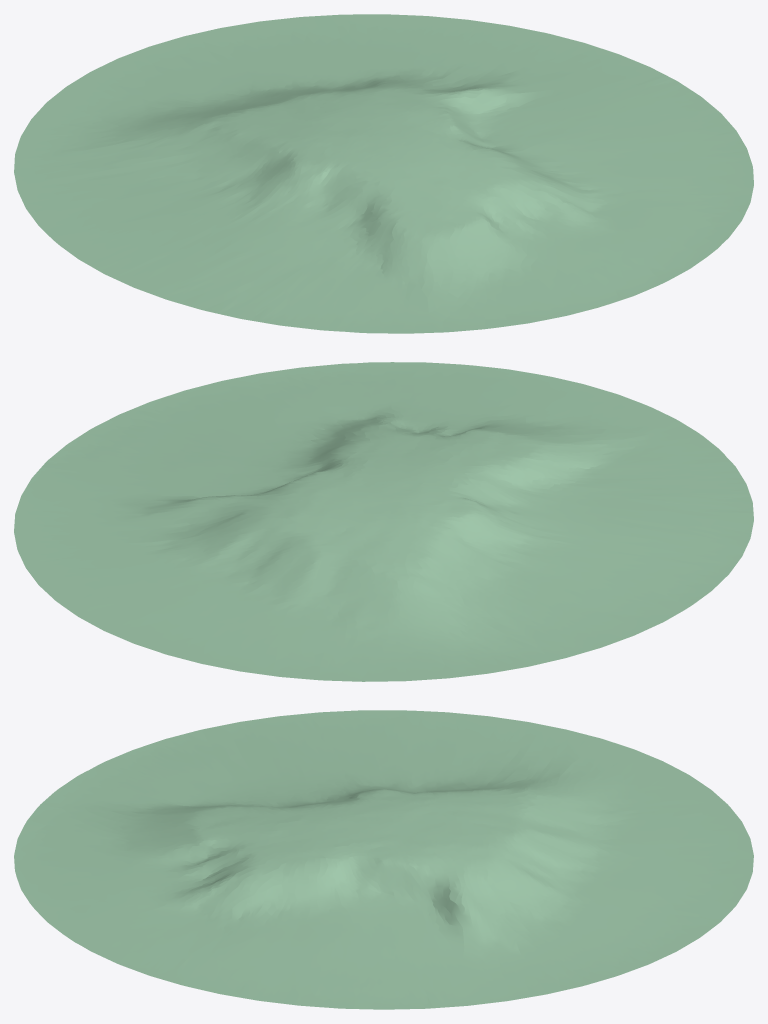
File: island_coral_medium_E.fbx
3 renders of one model, top to bottom at view 1: azimuth 30°, elevation 25°; view 2: azimuth 150°, elevation 25°; view 3: azimuth 270°, elevation 25°, orthographic. The views are drawn at different scales.
Visible parts, largest first — view 1: island_coral_medium_E; view 2: island_coral_medium_E; view 3: island_coral_medium_E.
Part boxes in pixels (x1=…): island_coral_medium_E: x1=14, y1=14, x2=753, y2=333; island_coral_medium_E: x1=14, y1=362, x2=753, y2=681; island_coral_medium_E: x1=14, y1=710, x2=753, y2=1009.
Bounding box in the file's own units: 9804 × 523 × 10240.
